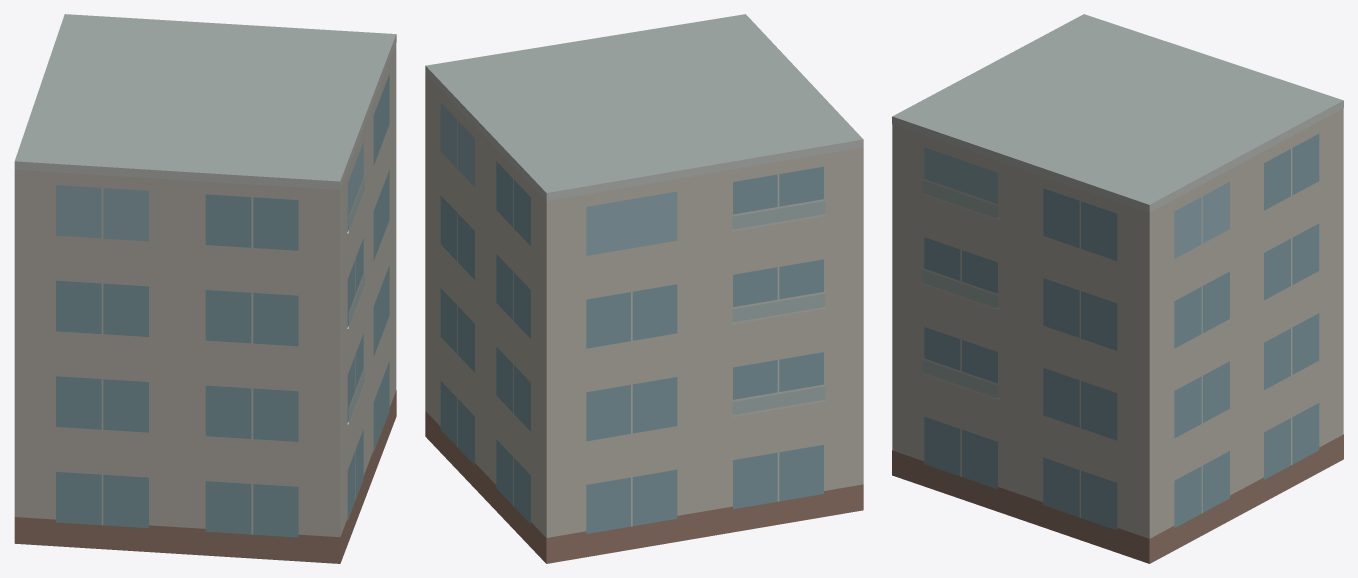
File: survey-upis-32827447.glb
The picture shows the model from 3 angles, left to right: view 1: azimuth 30°, elevation 25°; view 2: azimuth 150°, elevation 25°; view 3: azimuth 270°, elevation 25°; orthographic projection. The views are drawn at different scales.
Visible parts, largest first — view 1: survey-upis-32827447.tmp; view 2: survey-upis-32827447.tmp; view 3: survey-upis-32827447.tmp.
Part boxes in pixels (box(x1,y1,x2,y2)): survey-upis-32827447.tmp: box(14, 14, 396, 563); survey-upis-32827447.tmp: box(425, 14, 863, 563); survey-upis-32827447.tmp: box(892, 14, 1343, 563).
Bounding box in the file's own units: 12.78 × 11.2 × 12.78.
